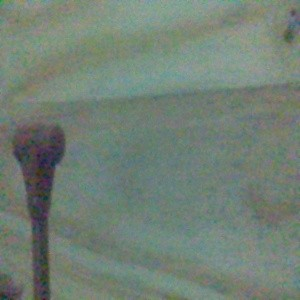palu: (11, 122, 66, 300)
